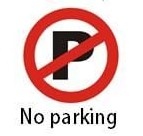Traffic signal: (23, 6, 120, 103)
